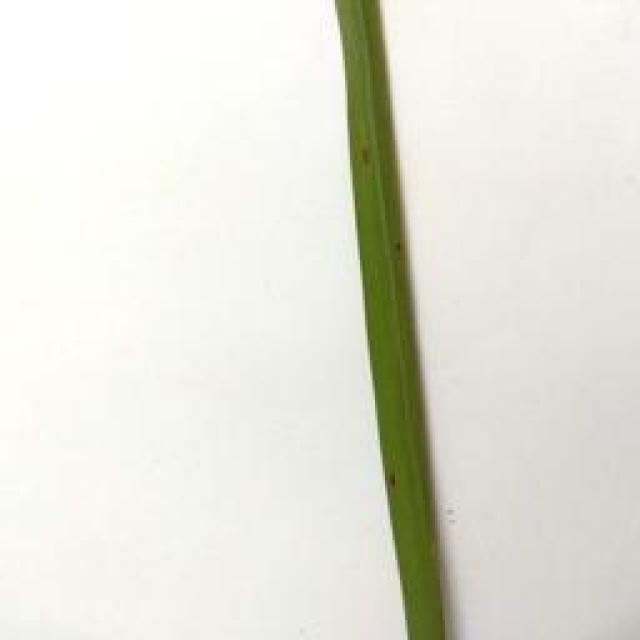Brown_Spot: (393, 221, 419, 265), (383, 474, 411, 495), (357, 150, 379, 172)
